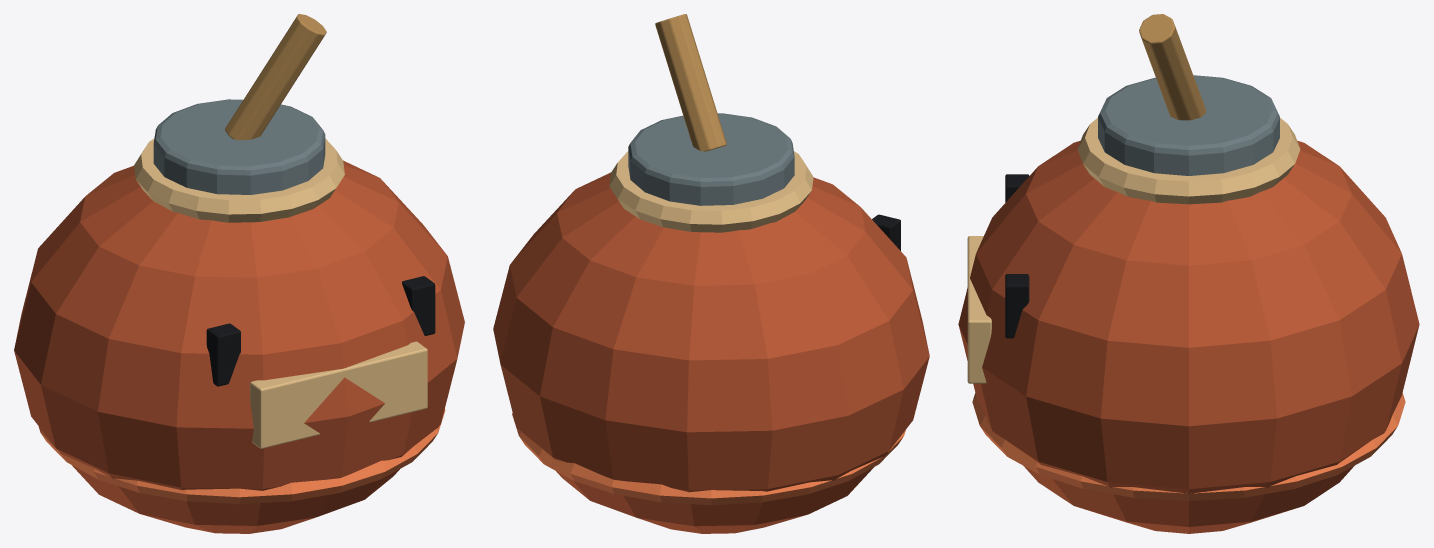
File: blackpowder_bomb.glb
3 renders of one model, left to right at view 1: azimuth 30°, elevation 25°; view 2: azimuth 150°, elevation 25°; view 3: azimuth 270°, elevation 25°, orthographic. The views are drawn at different scales.
Parts seen in each view (by area): view 1: clay_bomb_body, bomb_collar, paper_wrap_front, paper_seal, clay_bomb_lower_band, unglit_fuse, charcoal_mark_-0.22, charcoal_mark_0.22; view 2: clay_bomb_body, bomb_collar, paper_seal, clay_bomb_lower_band, unglit_fuse, charcoal_mark_-0.22; view 3: clay_bomb_body, bomb_collar, paper_seal, clay_bomb_lower_band, unglit_fuse, paper_wrap_front, charcoal_mark_0.22.
Boxes of the visible parts, box(x1,y1,x2,y2) form: clay_bomb_body: box(14, 160, 464, 533); bomb_collar: box(153, 99, 325, 194); paper_wrap_front: box(250, 341, 427, 448); paper_seal: box(134, 138, 344, 222); clay_bomb_lower_band: box(38, 409, 445, 504); unglit_fuse: box(225, 14, 326, 140); charcoal_mark_-0.22: box(206, 323, 240, 386); charcoal_mark_0.22: box(402, 276, 435, 335); clay_bomb_body: box(493, 172, 929, 533); bomb_collar: box(628, 113, 794, 205); paper_seal: box(609, 151, 813, 232); clay_bomb_lower_band: box(512, 413, 905, 505); unglit_fuse: box(655, 14, 726, 151); charcoal_mark_-0.22: box(872, 214, 900, 250); clay_bomb_body: box(958, 140, 1419, 533); bomb_collar: box(1098, 75, 1279, 175); paper_seal: box(1077, 118, 1300, 204); clay_bomb_lower_band: box(972, 393, 1405, 500); unglit_fuse: box(1139, 14, 1206, 120); paper_wrap_front: box(967, 236, 991, 383); charcoal_mark_0.22: box(1005, 274, 1029, 338).
Bounding box in the file's own units: 0.9 × 1.07 × 0.86.
